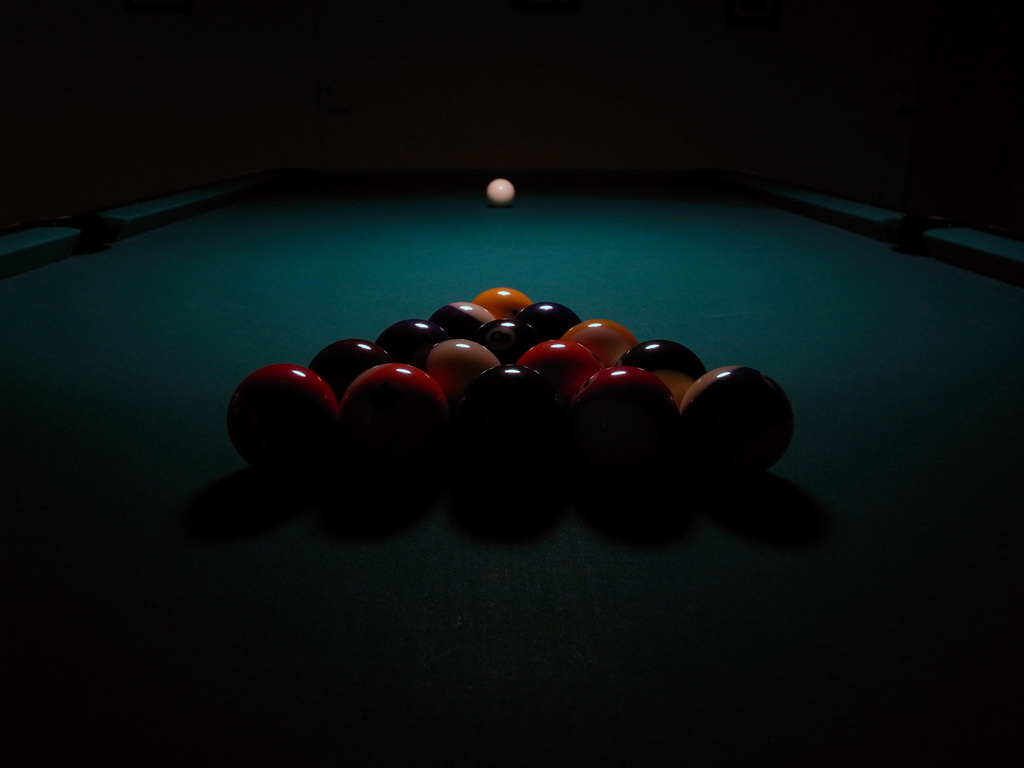Ball: (228, 284, 794, 497), (487, 180, 512, 203)
